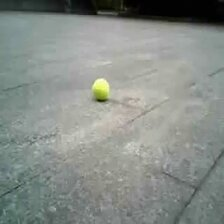tennis: (92, 79, 109, 99)
